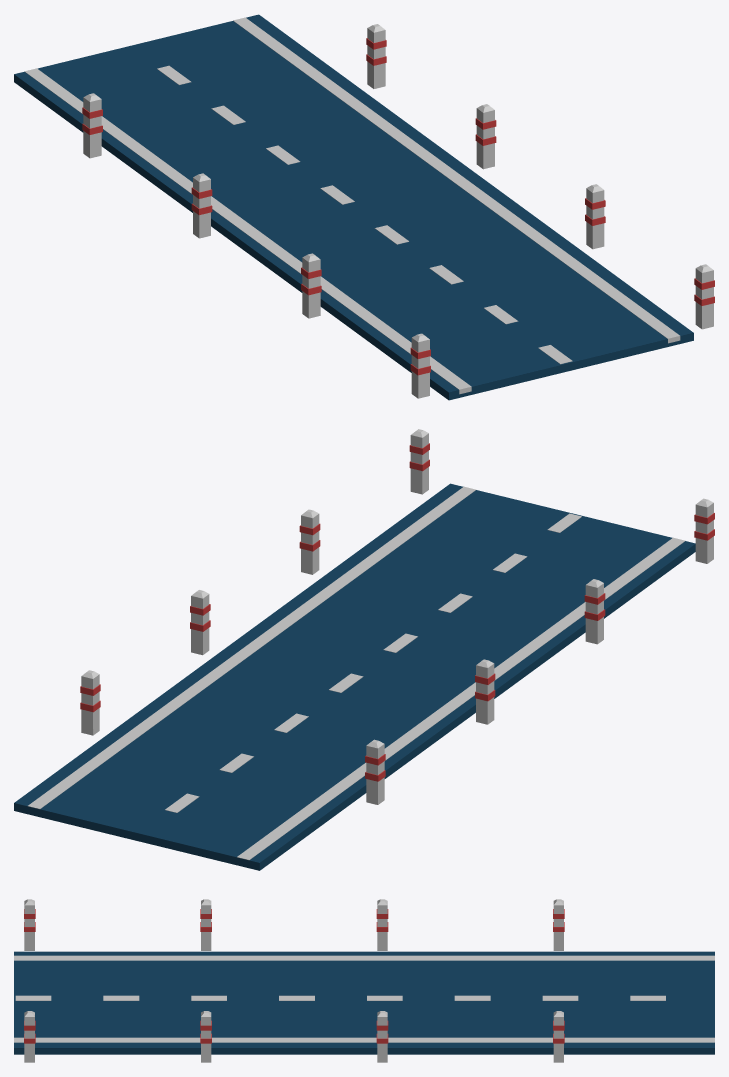
Rendered from Road.glb.
3 views of the same model, one above another, from view 1: azimuth 30°, elevation 25°; view 2: azimuth 150°, elevation 25°; view 3: azimuth 270°, elevation 25° (orthographic). The views are drawn at different scales.
Visible parts, largest first — view 1: Node; view 2: Node; view 3: Node.
Boxes of the visible parts, x1,y1,x2,y2 form: Node: (14,14,714,400); Node: (14,429,714,870); Node: (14,899,714,1062).
Size of the model in its own units: 368 by 74.43 by 934.
Materials: 1 (1 with a texture image).
